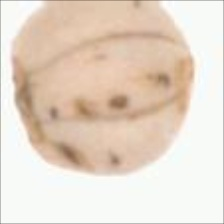L5: (16, 30, 193, 123), (8, 50, 44, 148)
L6: (7, 1, 197, 181)
